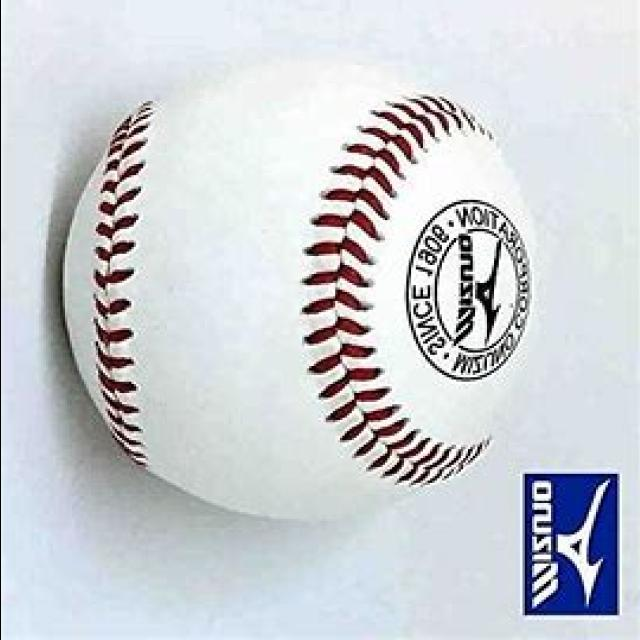ball: (62, 64, 536, 518)
